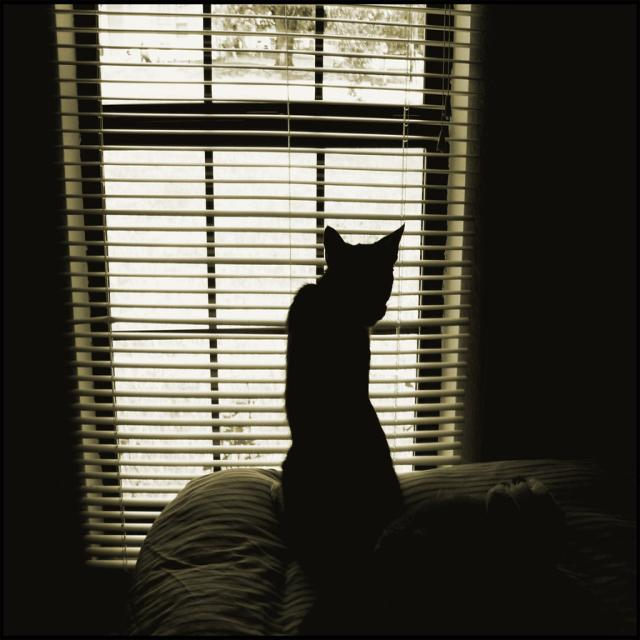Cat: (271, 209, 441, 582)
